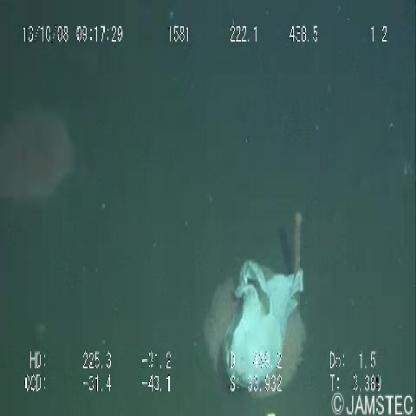Rác: (213, 245, 309, 394)
